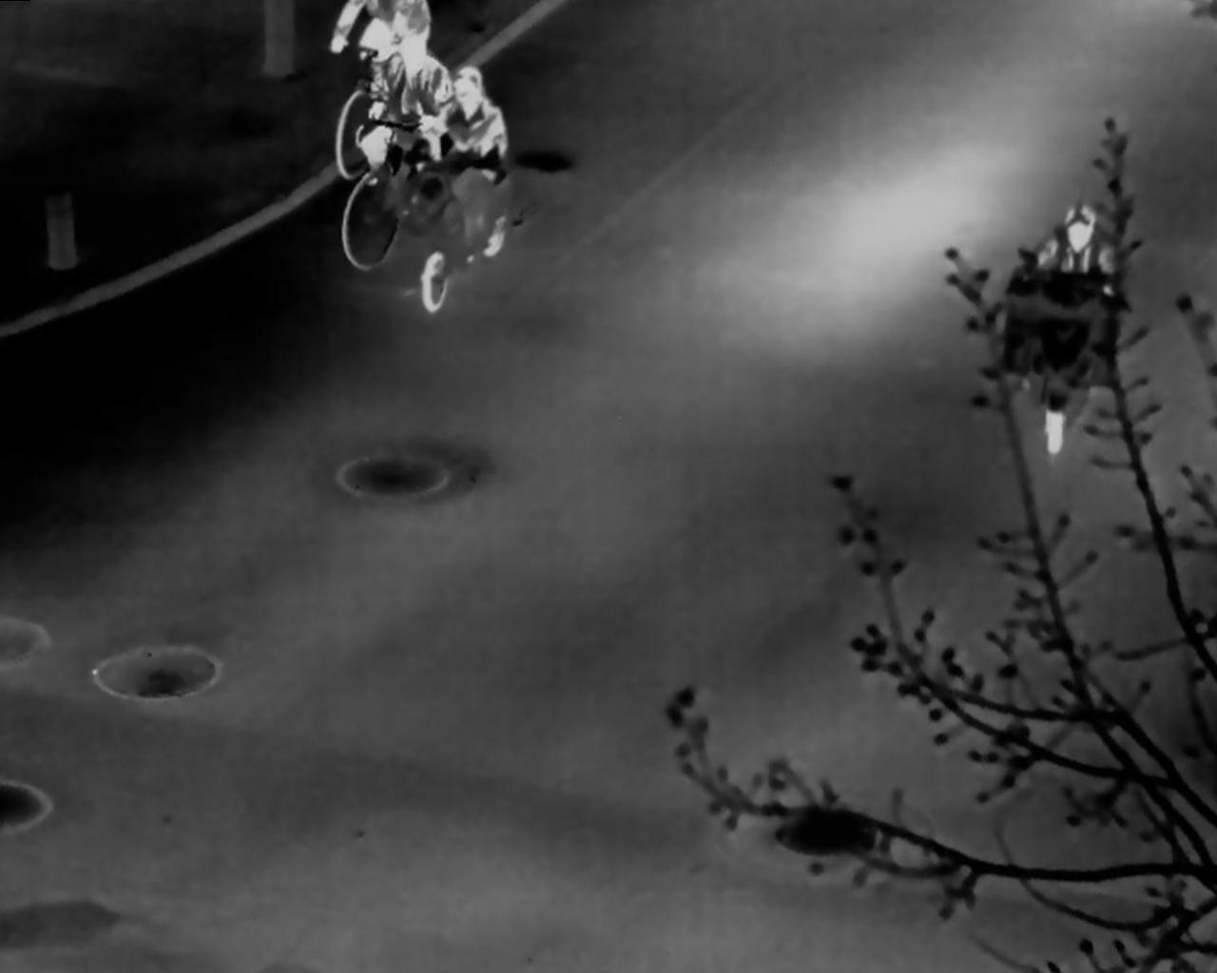person: (354, 29, 455, 172), (443, 63, 506, 186), (1031, 204, 1124, 281)
